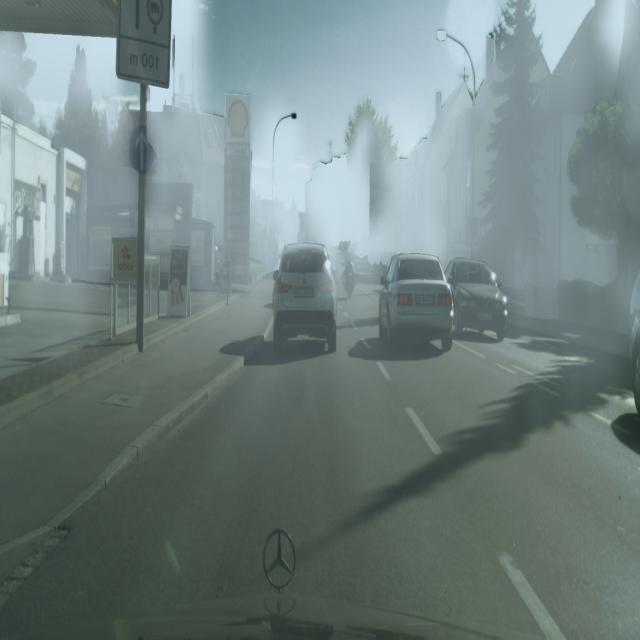bus: (269, 242, 337, 352), (377, 250, 452, 349), (446, 257, 508, 345), (627, 262, 640, 422)
truck: (341, 240, 359, 301)
